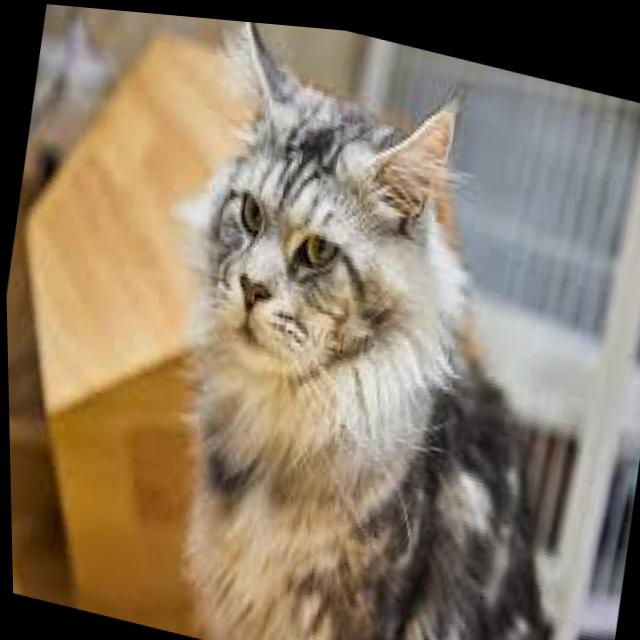cat: (75, 5, 639, 640)
